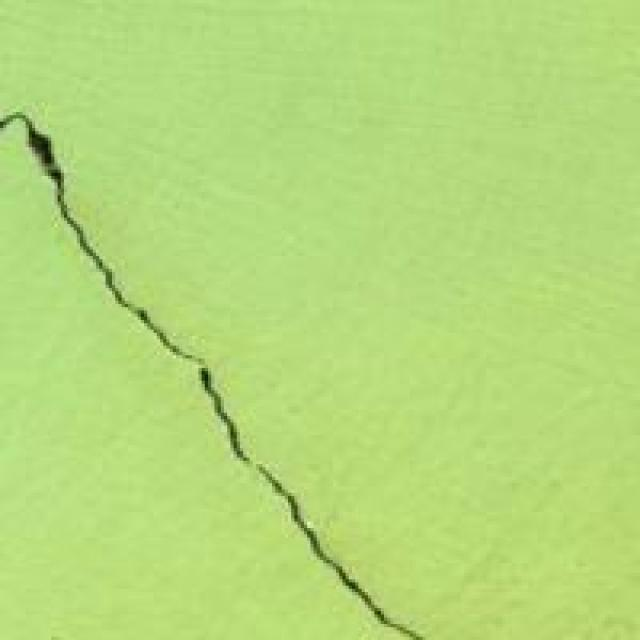crack: (0, 86, 440, 640)
